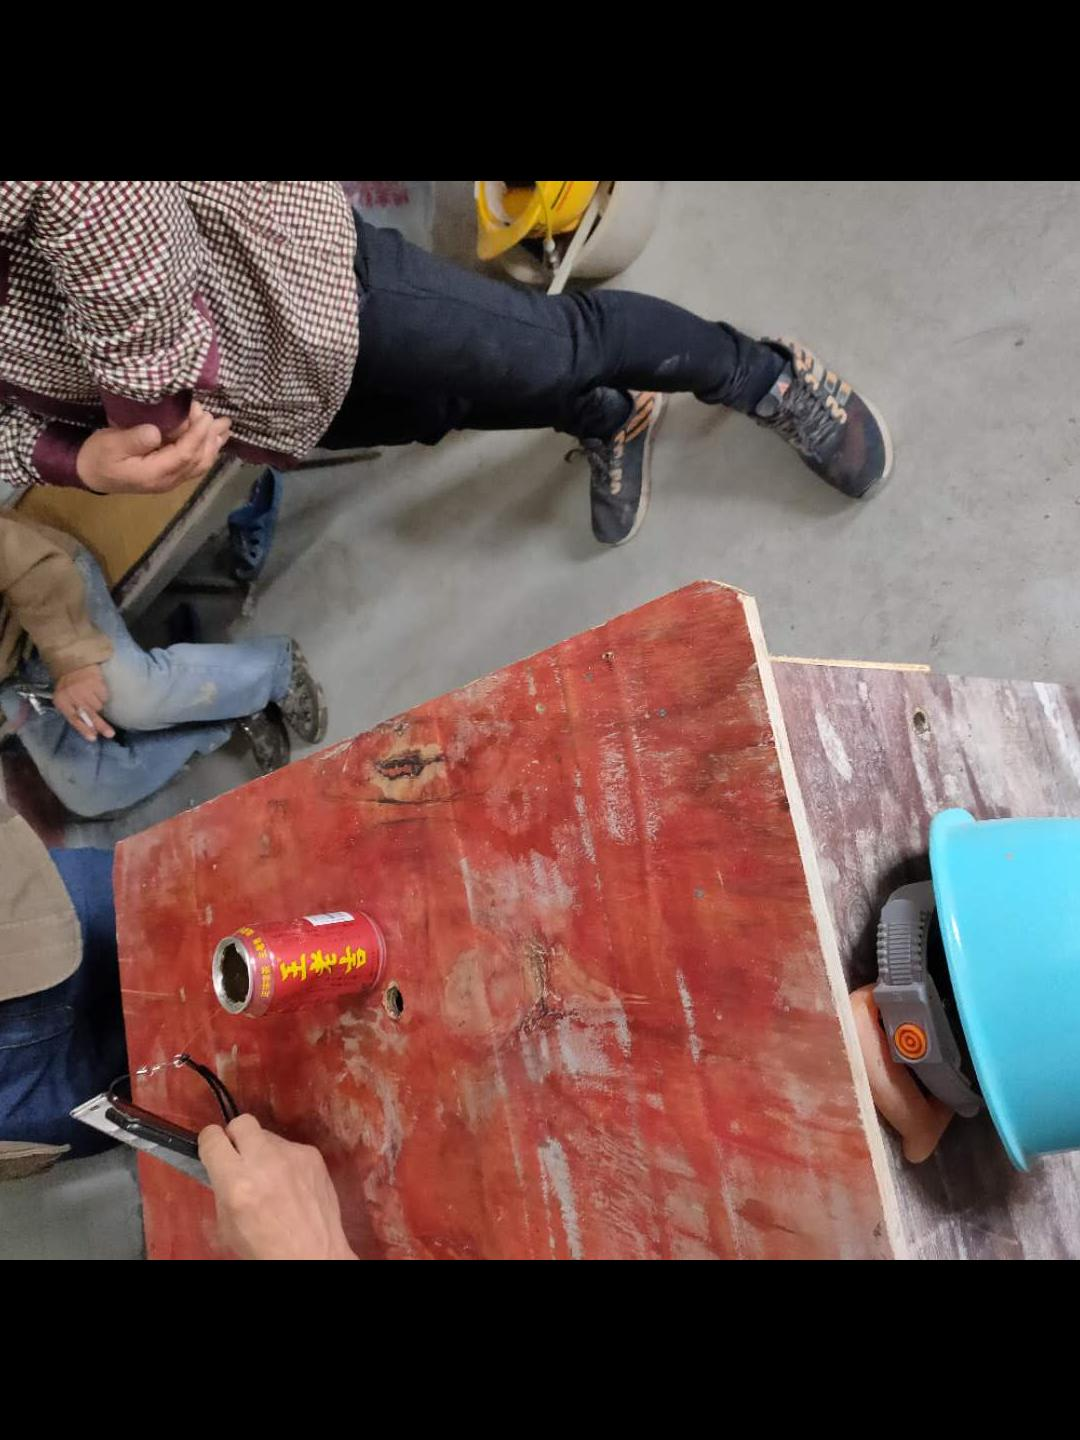Cigarette: (79, 708, 96, 735)
